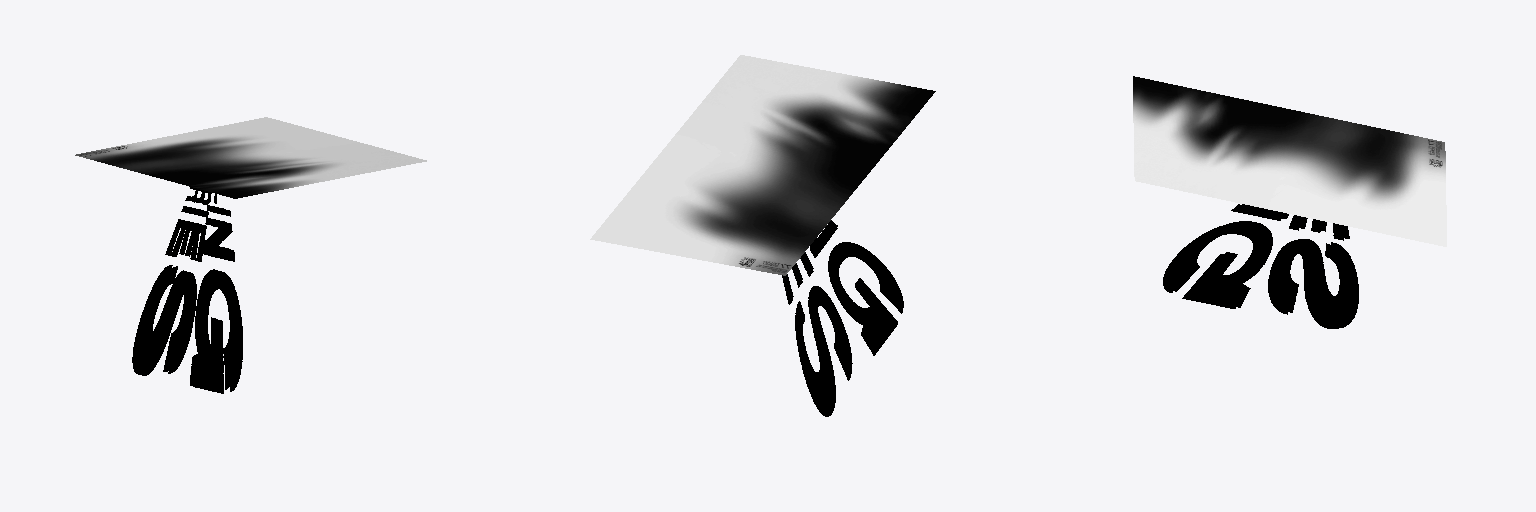
The picture shows the model from 3 angles: view 1: azimuth 30°, elevation 25°; view 2: azimuth 150°, elevation 25°; view 3: azimuth 270°, elevation 25°; orthographic projection.
Parts seen in each view (by area): view 1: Grid.001_Grid.003, Grid.000_Grid.001, Grid.003_Grid.005; view 2: Grid.001_Grid.003, Grid.000_Grid.001, Grid.003_Grid.005; view 3: Grid.001_Grid.003, Grid.003_Grid.005, Grid.000_Grid.001.
Part boxes in pixels (left/top/right/bottom): Grid.001_Grid.003: left=75, top=117, right=426, bottom=198; Grid.000_Grid.001: left=132, top=187, right=237, bottom=391; Grid.003_Grid.005: left=142, top=191, right=242, bottom=393; Grid.001_Grid.003: left=590, top=55, right=935, bottom=275; Grid.000_Grid.001: left=782, top=223, right=903, bottom=416; Grid.003_Grid.005: left=787, top=220, right=903, bottom=388; Grid.001_Grid.003: left=1133, top=76, right=1446, bottom=246; Grid.003_Grid.005: left=1163, top=204, right=1353, bottom=328; Grid.000_Grid.001: left=1174, top=204, right=1358, bottom=327.
Bounding box in the file's own units: 2.92 × 3.73 × 4.71.
3 materials, 3 textured.